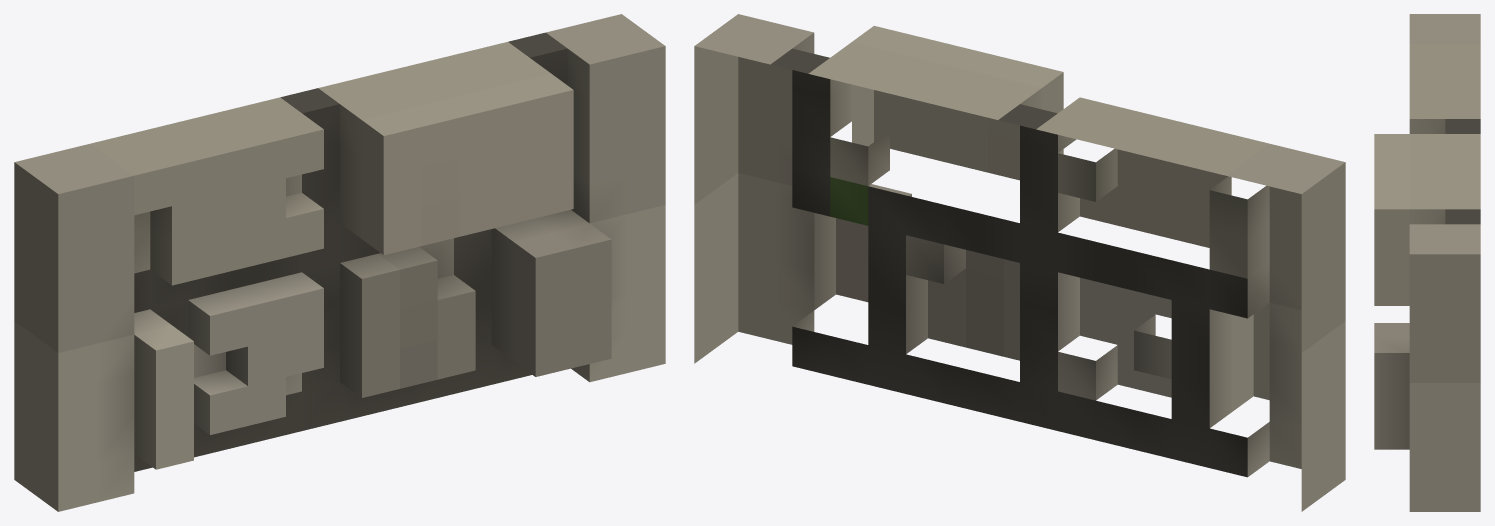
Rendered from wall_plain_1.glb.
3 views of the same model, side by side, from view 1: azimuth 30°, elevation 25°; view 2: azimuth 150°, elevation 25°; view 3: azimuth 270°, elevation 25° (orthographic). The views are drawn at different scales.
Visible parts, largest first — view 1: wall_plain_1; view 2: wall_plain_1; view 3: wall_plain_1.
Part boxes in pixels (left/top/right/bottom): wall_plain_1: left=14, top=14, right=665, bottom=511; wall_plain_1: left=694, top=14, right=1345, bottom=511; wall_plain_1: left=1374, top=14, right=1480, bottom=511.
Bounding box in the file's own units: 1 × 0.5 × 0.1875.
